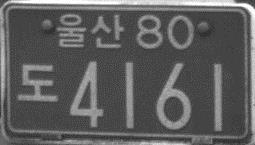0: (166, 14, 194, 51)
1: (209, 61, 226, 133), (121, 59, 137, 130)
4: (67, 59, 104, 129)
6: (154, 61, 192, 130)
8: (135, 13, 164, 51)
도: (16, 62, 59, 104)
울산_O: (55, 11, 124, 50)
